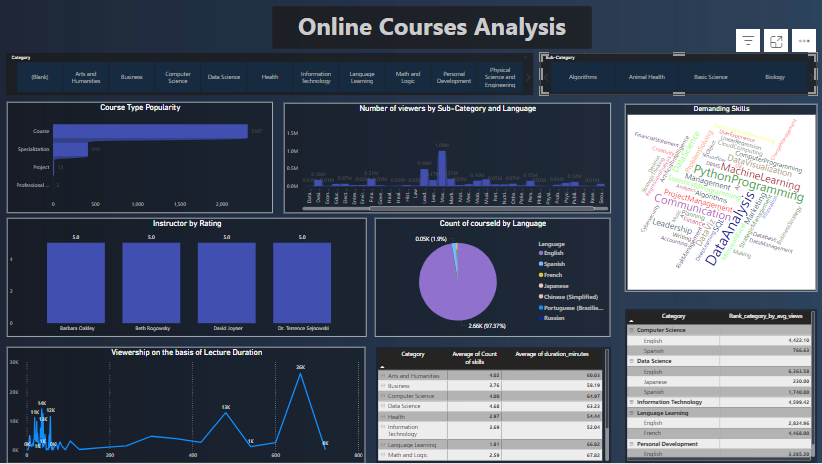

The dashboard page shown, as its layout file describes it:
{"tool":"powerbi","page":{"name":"Dashboard","canvas":[1920,1080],"ordinal":0},"visuals":[{"type":"textbox","box":[634.9,16.3,744.2,100],"z":0},{"type":"slicer","fields":{"Values":["Online_Courses.Category"]},"box":[16.3,125.6,1225.6,97.7],"z":1000},{"type":"barChart","title":"Course Type Popularity","fields":{"Category":["Online_Courses.Course Type"],"Y":["Online_Courses.courseId"]},"box":[17.8,240,617.8,257.8],"z":2000},{"type":"columnChart","title":" Number of viewers by Sub-Category and Language","fields":{"Category":["Online_Courses.Sub-Category","Online_Courses.Language"],"Y":["Online_Courses.Number of viewers"]},"box":[662.2,242.2,760,255.6],"z":3000},{"type":"WordCloud1447959067750","title":"Demanding Skills","fields":{"Category":["Online_Courses.Skills"]},"box":[1455.6,244.4,446.7,435.6],"z":4000},{"type":"pieChart","fields":{"Category":["Online_Courses.Language"],"Y":["Online_Courses.courseId"]},"box":[875.6,508.9,546.7,275.6],"z":5000},{"type":"pivotTable","fields":{"Rows":["Online_Courses.Category","Online_Courses.Language"],"Values":["Online_Courses.Rank_categiry_by_avg_views"]},"box":[1455.8,720.9,446.5,358.1],"z":6000},{"type":"slicer","fields":{"Values":["Online_Courses.Sub-Category"]},"box":[1258.1,125.6,644.2,97.7],"z":6001},{"type":"columnChart","title":"Instructor by Rating","fields":{"Category":["Instructors.Instructors"],"Y":["Instructors.Instructor_rating"]},"box":[17.8,508.9,835.6,275.6],"z":6002},{"type":"lineChart","title":"Viewership on the basis of Lecture Duration","fields":{"Category":["Online_Courses.duration_minutes"],"Y":["Online_Courses.Number of viewers"]},"box":[17.8,808.9,833.3,271.1],"z":6003},{"type":"pivotTable","fields":{"Rows":["Online_Courses.Category","Online_Courses.Sub-Category"],"Values":["Online_Courses.Count of skills","Online_Courses.duration_minutes"]},"box":[876.7,809.3,546.5,269.8],"z":6004}]}

Visuals, with their boxes in screenshot pixels (x1, y1, x2, y2), scaled from the page's 1920x1080 canvas onto the 822x464 screenshot:
textbox: (left=272, top=7, right=590, bottom=50)
slicer - Online_Courses.Category: (left=7, top=54, right=532, bottom=96)
"Course Type Popularity" barChart: (left=8, top=103, right=272, bottom=214)
" Number of viewers by Sub-Category and Language" columnChart: (left=284, top=104, right=609, bottom=214)
"Demanding Skills" WordCloud1447959067750: (left=623, top=105, right=814, bottom=292)
pieChart - Online_Courses.Language x Online_Courses.courseId: (left=375, top=219, right=609, bottom=337)
pivotTable - Online_Courses.Category x Online_Courses.Language: (left=623, top=310, right=814, bottom=463)
slicer - Online_Courses.Sub-Category: (left=539, top=54, right=814, bottom=96)
"Instructor by Rating" columnChart: (left=8, top=219, right=365, bottom=337)
"Viewership on the basis of Lecture Duration" lineChart: (left=8, top=348, right=364, bottom=463)
pivotTable - Online_Courses.Category x Online_Courses.Sub-Category: (left=375, top=348, right=609, bottom=463)
